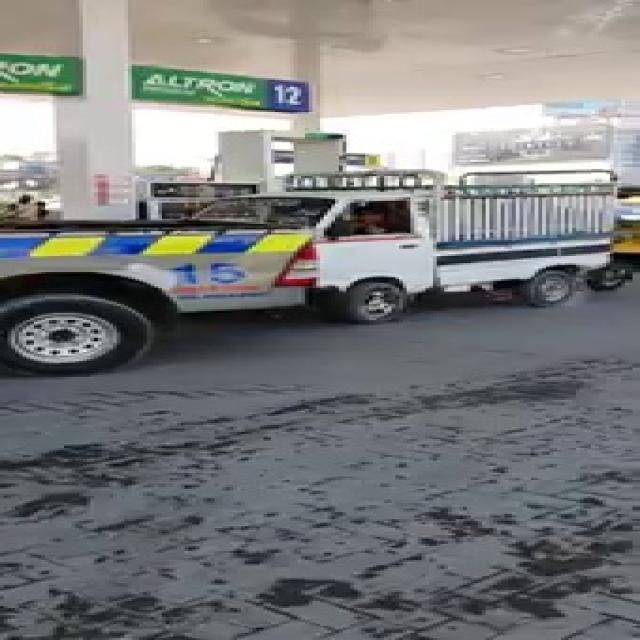police: (0, 165, 369, 436)
